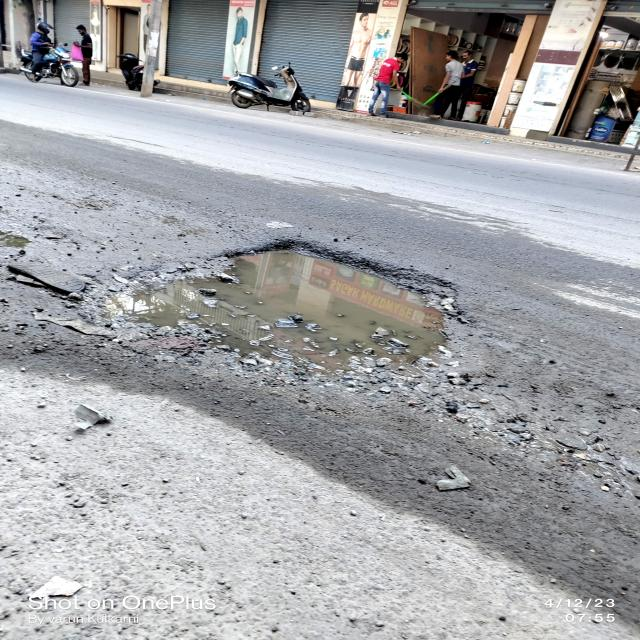Puddle pothole: (90, 232, 488, 378)
potholes: (7, 227, 30, 254)
